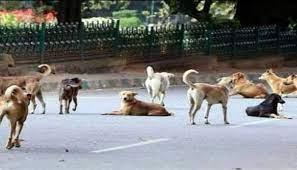dog_aggressive: (2, 76, 31, 152)
normal_dogs: (184, 60, 240, 129), (111, 87, 176, 120), (16, 64, 51, 117), (143, 61, 179, 102), (244, 96, 290, 124), (259, 66, 297, 98), (58, 72, 86, 112)
